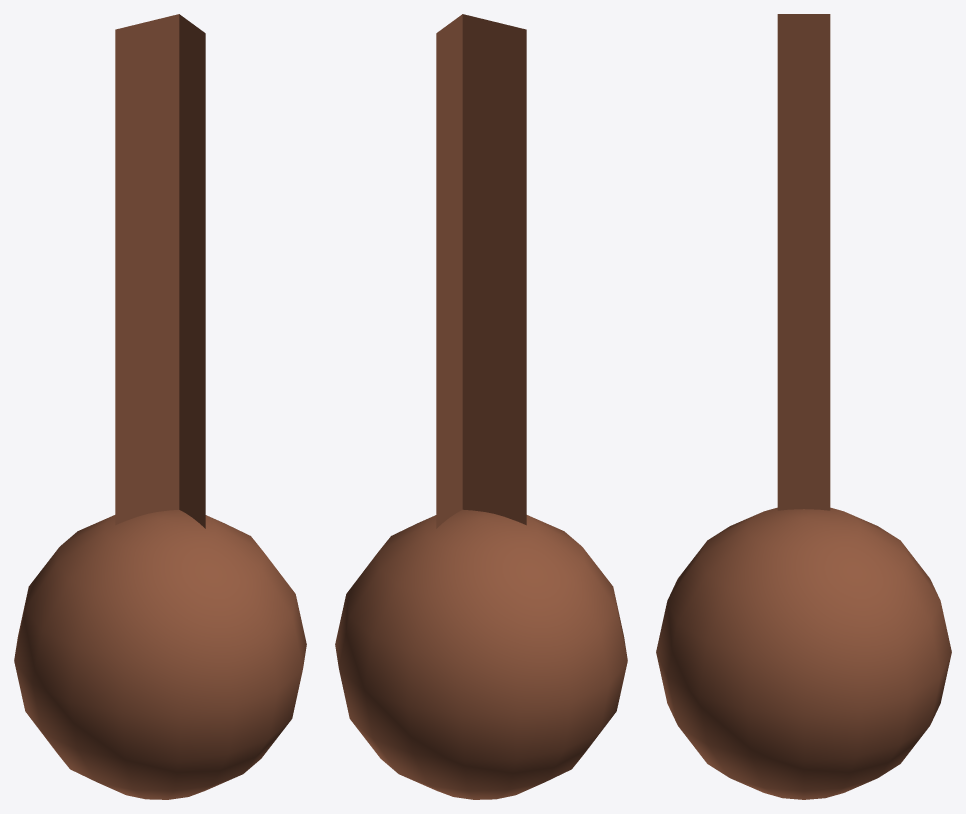
File: cello.glb
3 views of the same model, side by side, from view 1: azimuth 30°, elevation 25°; view 2: azimuth 150°, elevation 25°; view 3: azimuth 270°, elevation 25° (orthographic).
Visible parts, largest first — view 1: cello; view 2: cello; view 3: cello.
Part boxes in pixels (bbox=[...]): cello: bbox=[14, 14, 306, 799]; cello: bbox=[335, 14, 627, 799]; cello: bbox=[656, 14, 951, 799].
Size of the model in its own units: 0.56 by 1.58 by 0.56.
